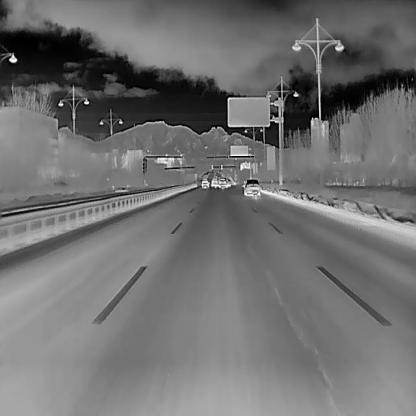car: (242, 178, 260, 196), (201, 177, 209, 189), (210, 177, 218, 188), (219, 177, 227, 188), (225, 177, 231, 188)
